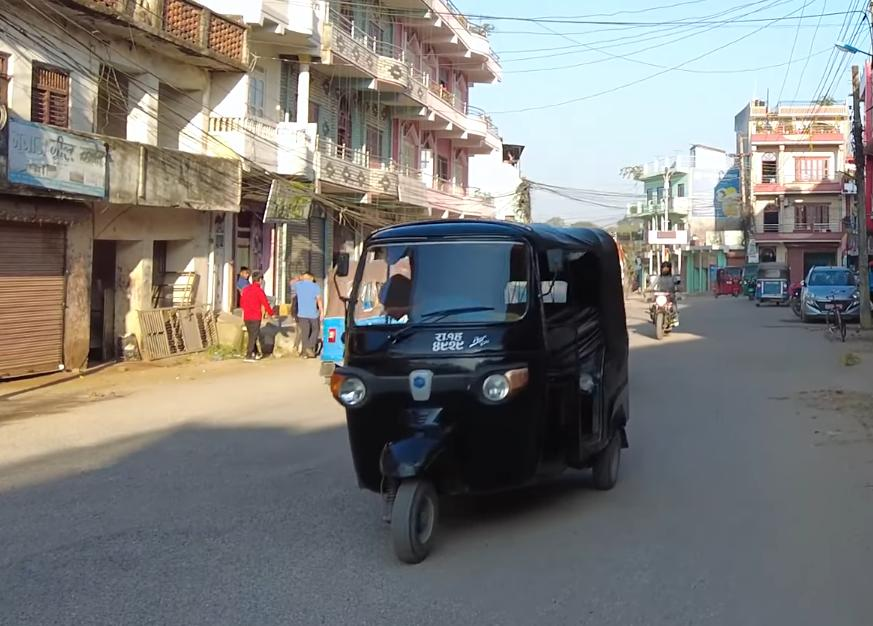auto_rickshaw: (326, 208, 637, 572), (755, 258, 794, 307), (712, 264, 743, 299)
bike: (651, 286, 683, 343)
car: (797, 260, 867, 325)
